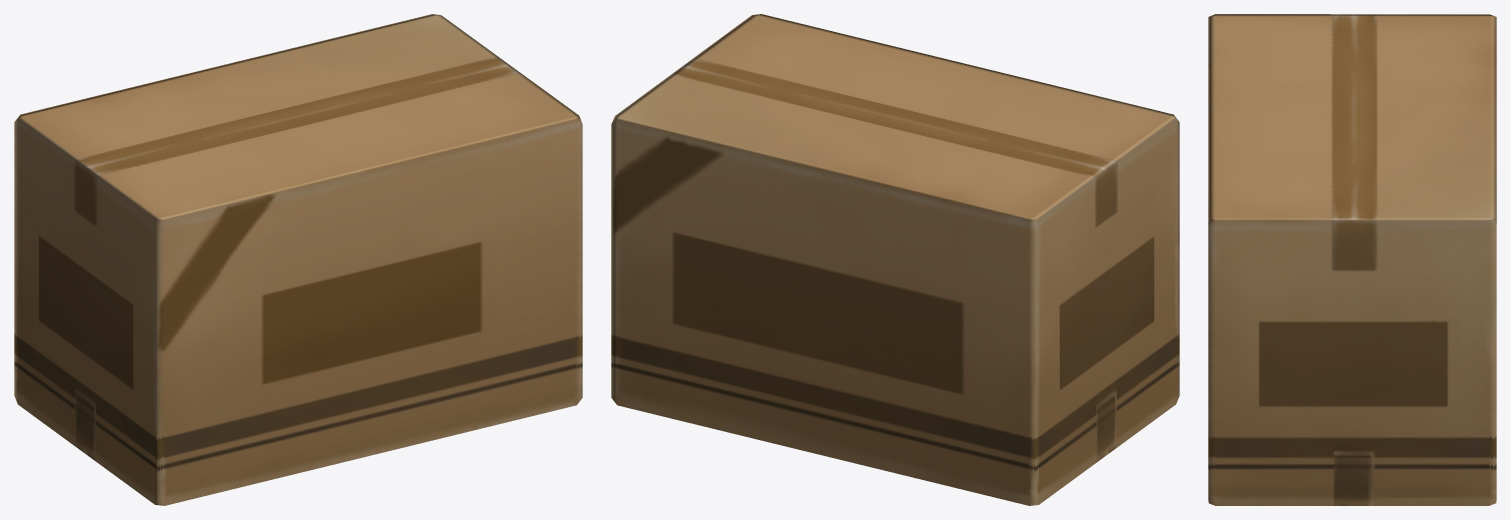
3 renders of one model, left to right at view 1: azimuth 30°, elevation 25°; view 2: azimuth 150°, elevation 25°; view 3: azimuth 270°, elevation 25°, orthographic.
Visible parts, largest first — view 1: Box03; view 2: Box03; view 3: Box03.
Boxes of the visible parts, <box> form: Box03: <box>14,14,582,505</box>; Box03: <box>611,14,1179,505</box>; Box03: <box>1208,14,1496,505</box>.
Bounding box in the file's own units: 31.41 × 20.24 × 18.51.
Materials: 1 (1 with a texture image).
